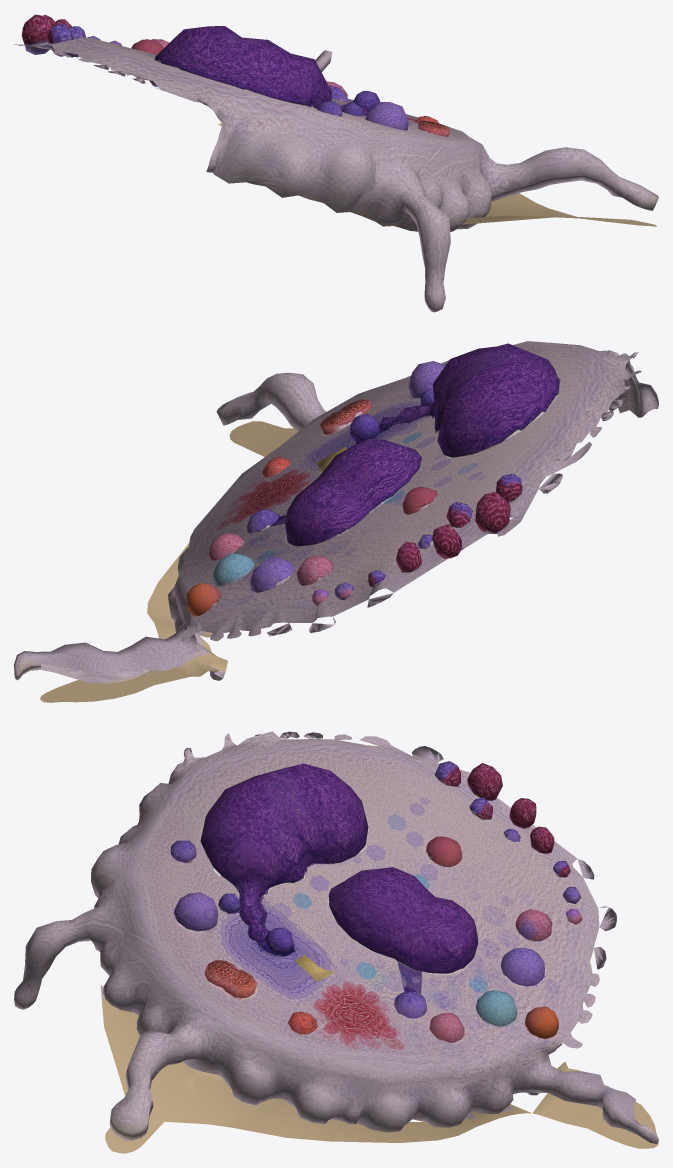
Rendered from white-tripo.failed-tripo.glb.
3 renders of one model, top to bottom at view 1: azimuth 30°, elevation 25°; view 2: azimuth 150°, elevation 25°; view 3: azimuth 270°, elevation 25°, orthographic. The views are drawn at different scales.
Parts seen in each view (by area): view 1: tripo_node_190d9204-36d2-4793-b476-586c1c03f5cc; view 2: tripo_node_190d9204-36d2-4793-b476-586c1c03f5cc; view 3: tripo_node_190d9204-36d2-4793-b476-586c1c03f5cc.
Part boxes in pixels (x1=…): tripo_node_190d9204-36d2-4793-b476-586c1c03f5cc: x1=14, y1=14, x2=658, y2=312; tripo_node_190d9204-36d2-4793-b476-586c1c03f5cc: x1=14, y1=341, x2=658, y2=702; tripo_node_190d9204-36d2-4793-b476-586c1c03f5cc: x1=14, y1=731, x2=658, y2=1153.
Bounding box in the file's own units: 0.8408 × 0.4355 × 0.9945.
1 material, 1 textured.
